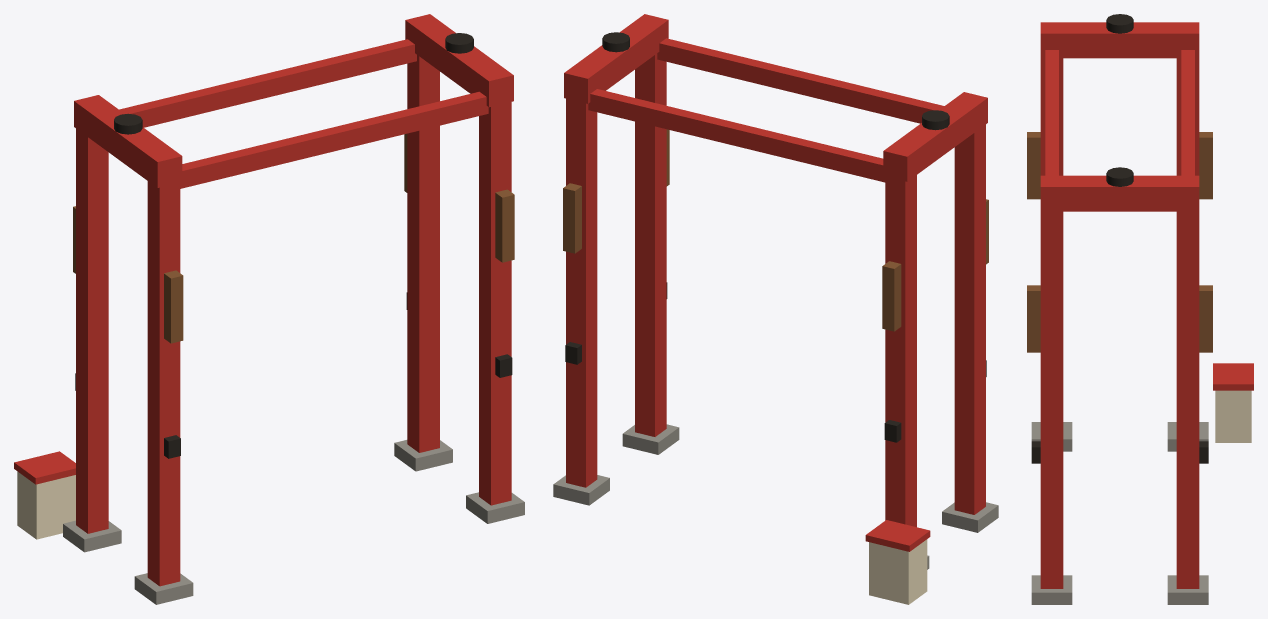
File: lift-bridge.glb
The picture shows the model from 3 angles, left to right: view 1: azimuth 30°, elevation 25°; view 2: azimuth 150°, elevation 25°; view 3: azimuth 270°, elevation 25°; orthographic projection. The views are drawn at different scales.
Parts seen in each view (by area): view 1: red, stone, darkWood, cream, black; view 2: red, stone, cream, darkWood, black; view 3: red, darkWood, stone, cream, black.
Boxes of the visible parts, box(x1,y1,x2,y2) form: red: box(14, 14, 513, 586); stone: box(63, 440, 524, 604); darkWood: box(73, 133, 514, 343); cream: box(17, 471, 75, 539); black: box(75, 33, 512, 458); red: box(564, 14, 987, 551); stone: box(553, 424, 998, 569); cream: box(869, 539, 927, 604); darkWood: box(563, 129, 988, 331); black: box(565, 32, 986, 442); red: box(1040, 22, 1253, 588); darkWood: box(1027, 132, 1212, 352); stone: box(1031, 422, 1208, 604); cream: box(1215, 390, 1251, 442); black: box(1031, 14, 1208, 463).
Bounding box in the file's own units: 190 × 206 × 100.
